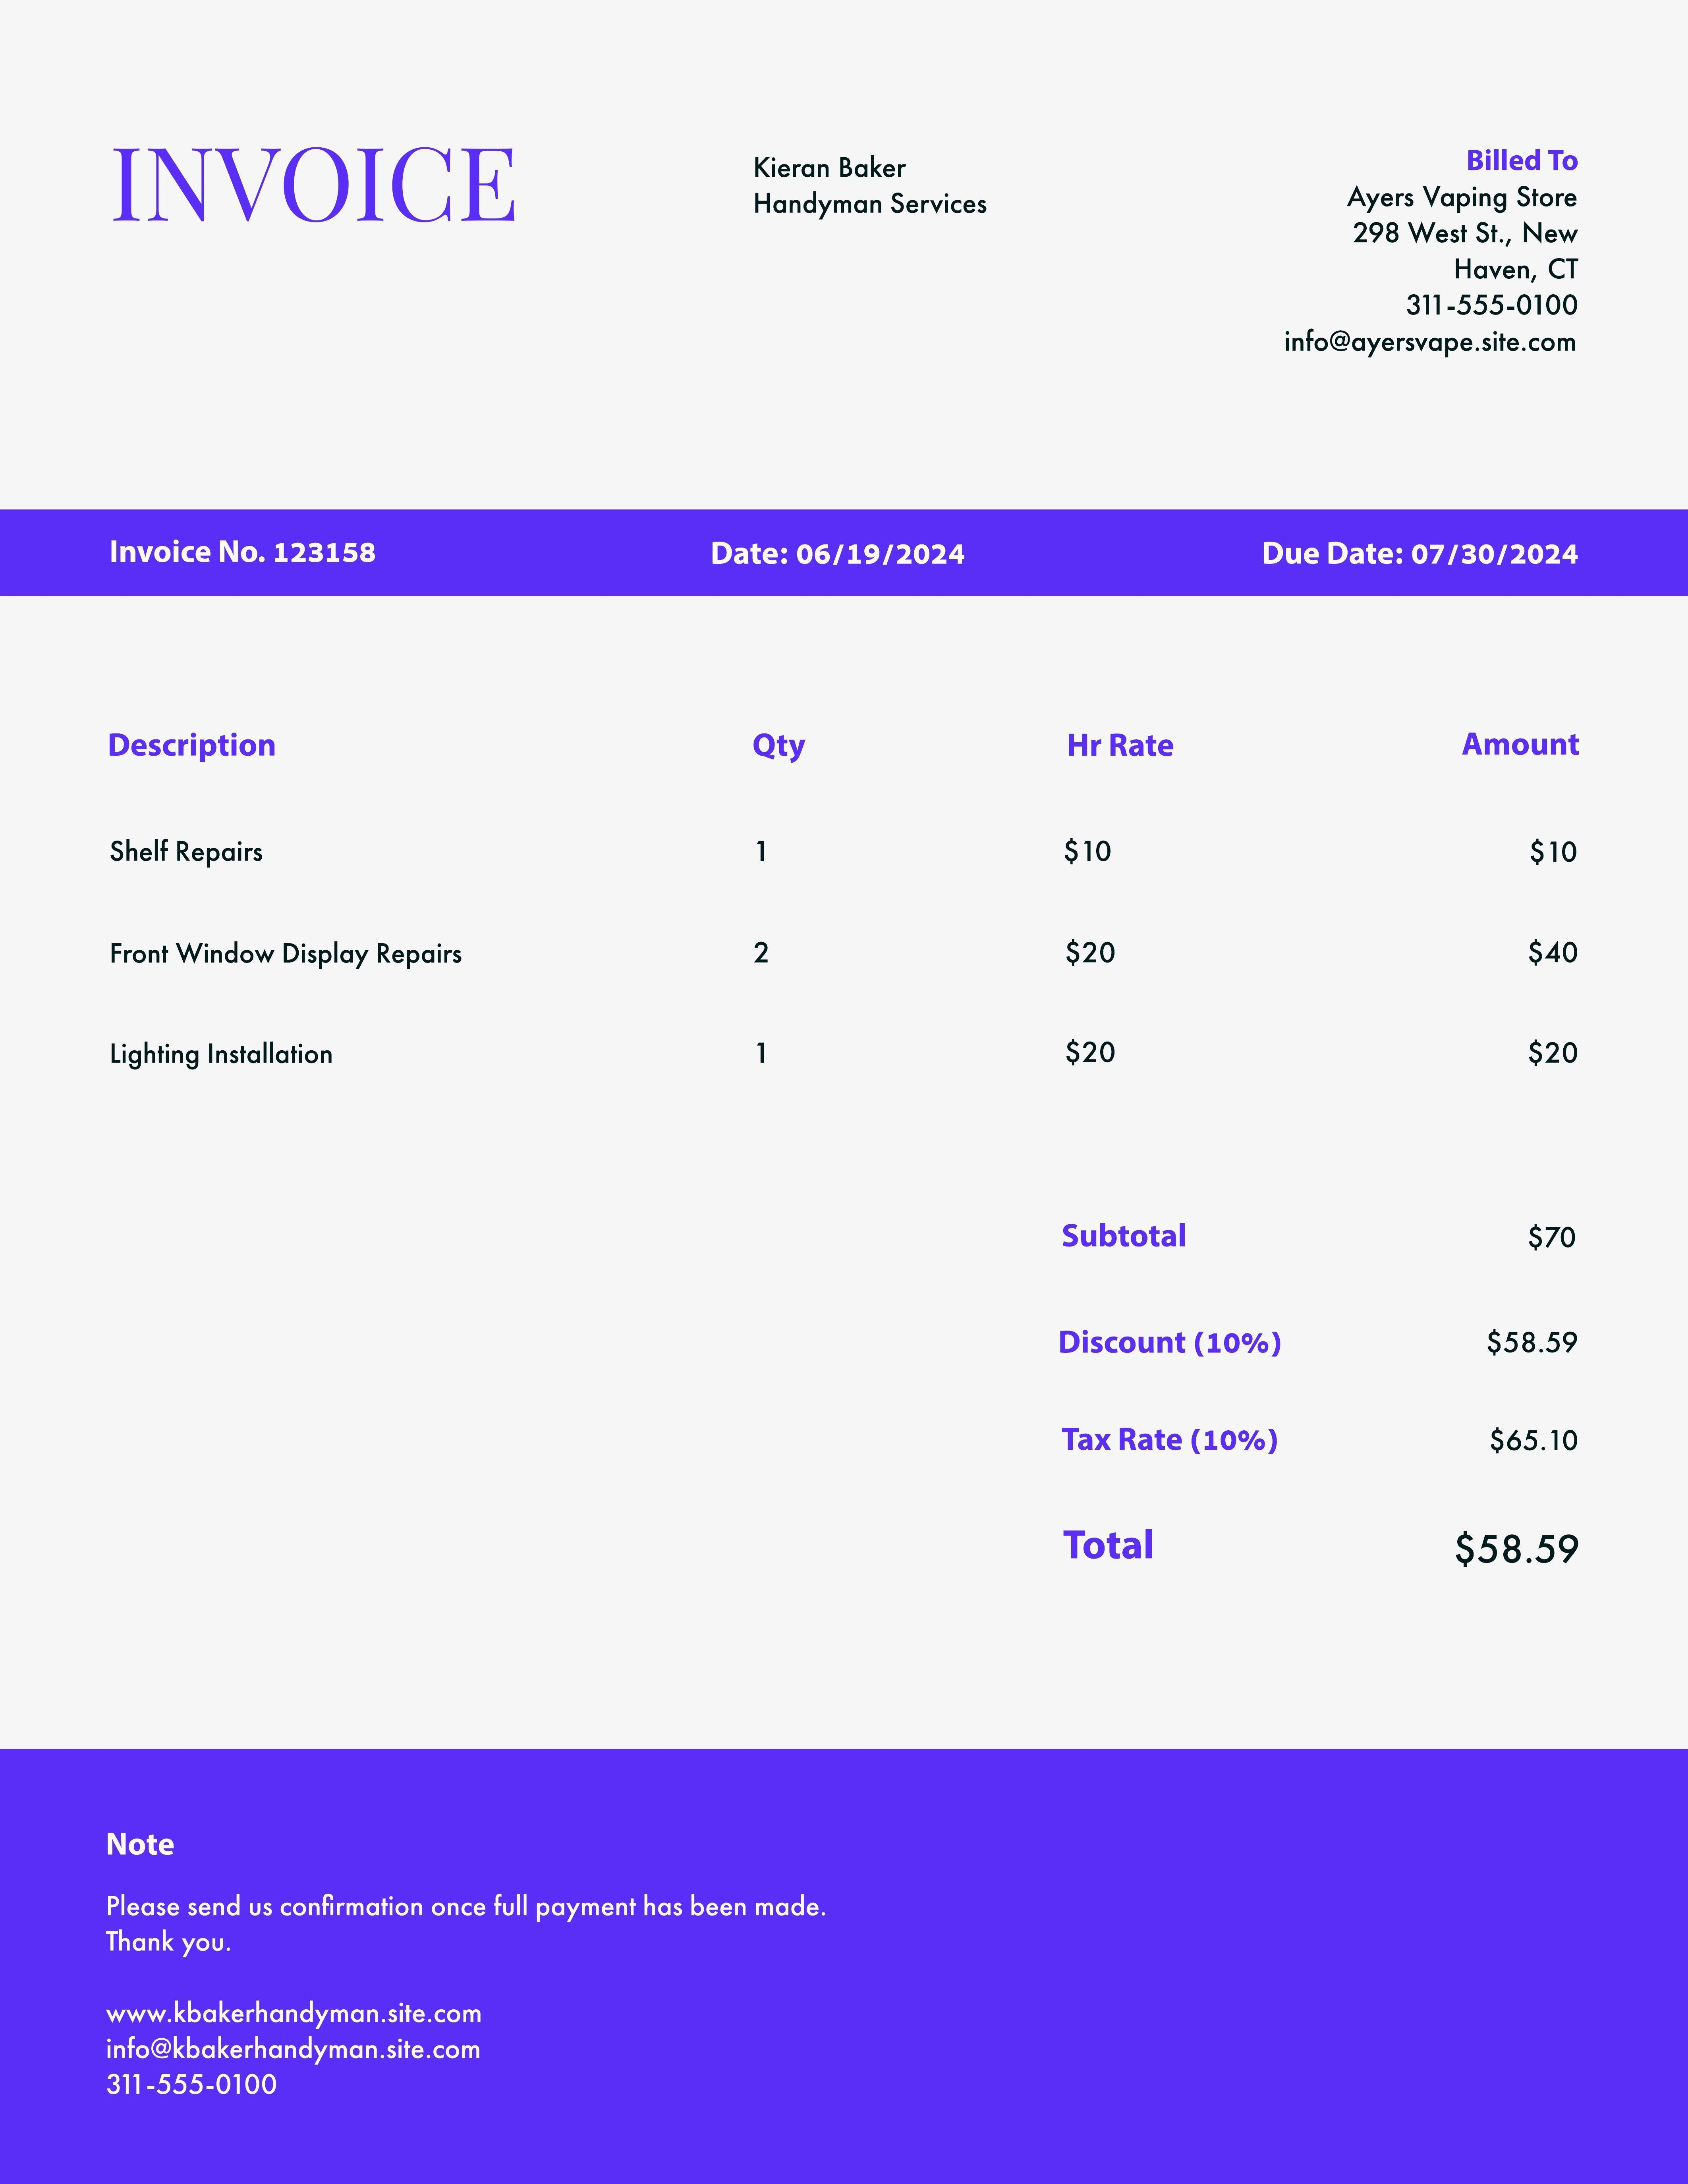ROI: (99, 725, 1624, 1092), (1044, 1205, 1603, 1581), (101, 511, 1589, 594), (96, 1821, 871, 1961), (1266, 122, 1614, 369), (750, 149, 1075, 232)
